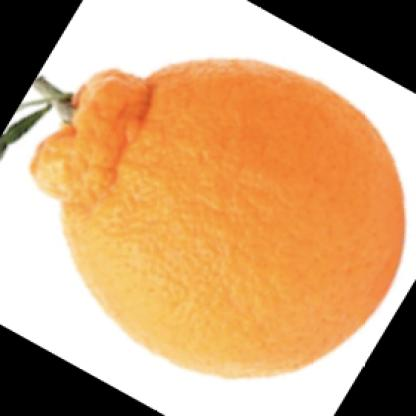fresh: (37, 60, 408, 381)
